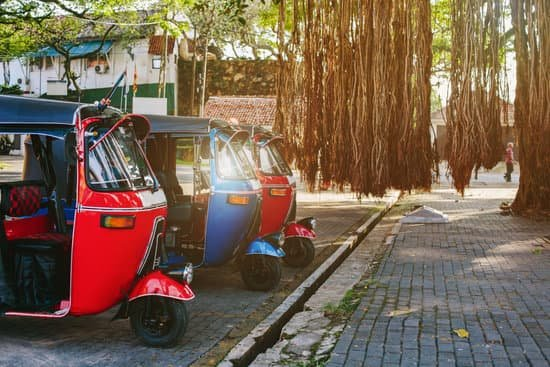threewheel: (1, 93, 195, 347), (137, 113, 286, 291), (239, 124, 317, 269)
